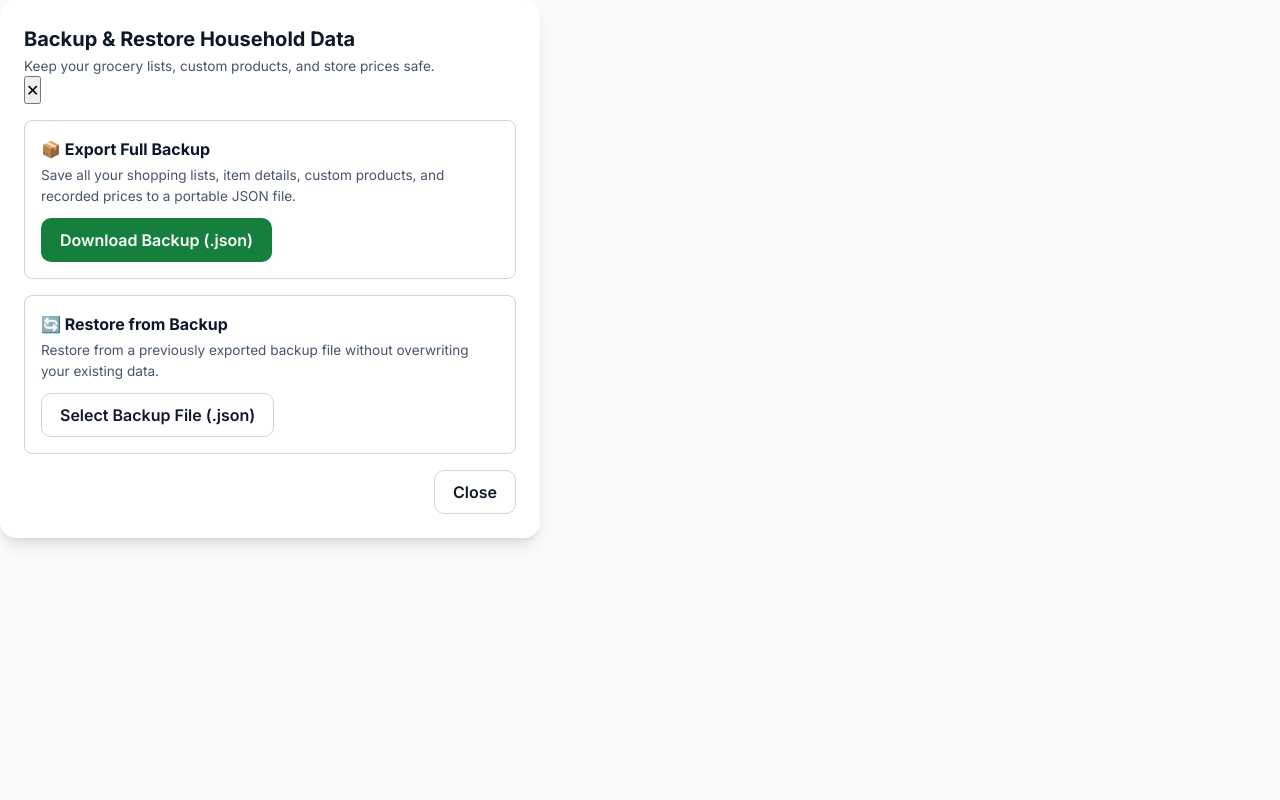
Mission 006 Frontend Components › BackupRestoreModal › handles export backup download
Click the button "Download Backup (.json)". click: (157, 240)
box: 41,218 -> 272,262
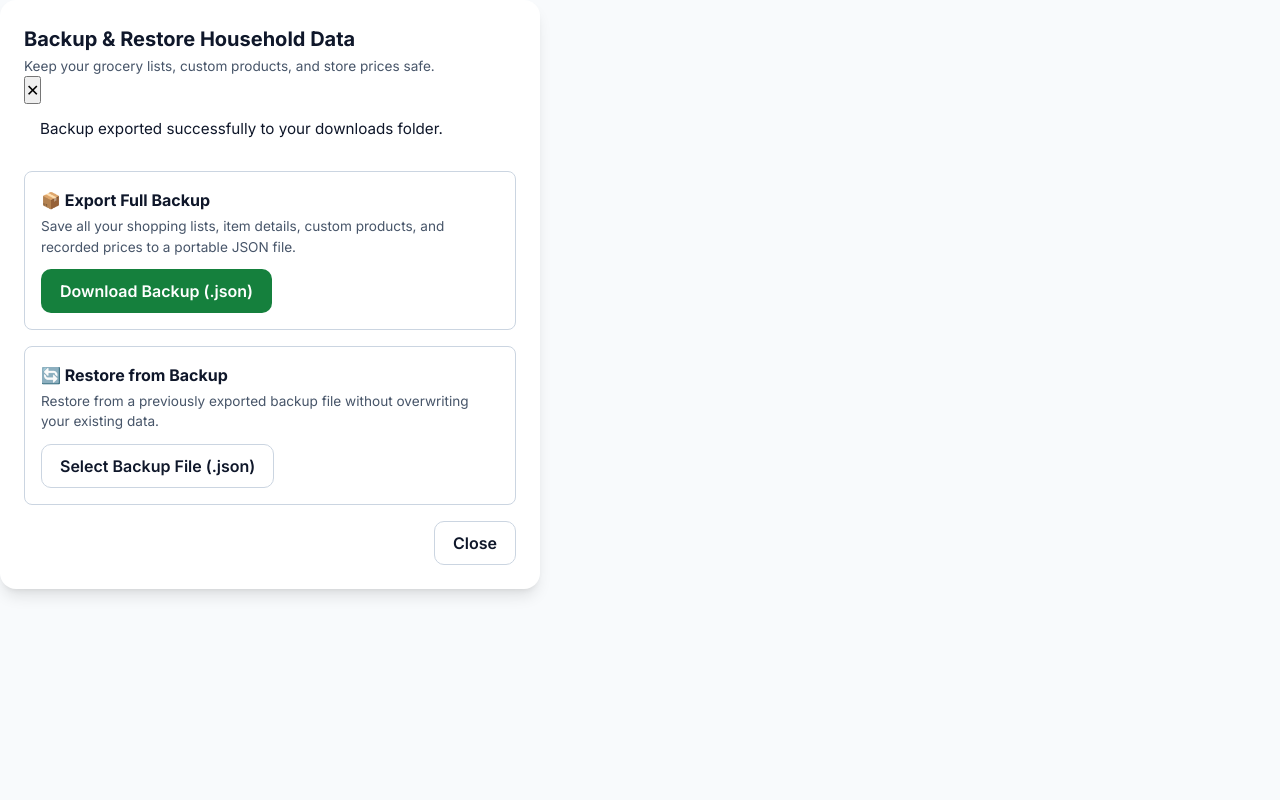
Check: the text "Backup exported successfully to your downloads folder." is shown, box 40,119 -> 443,138
